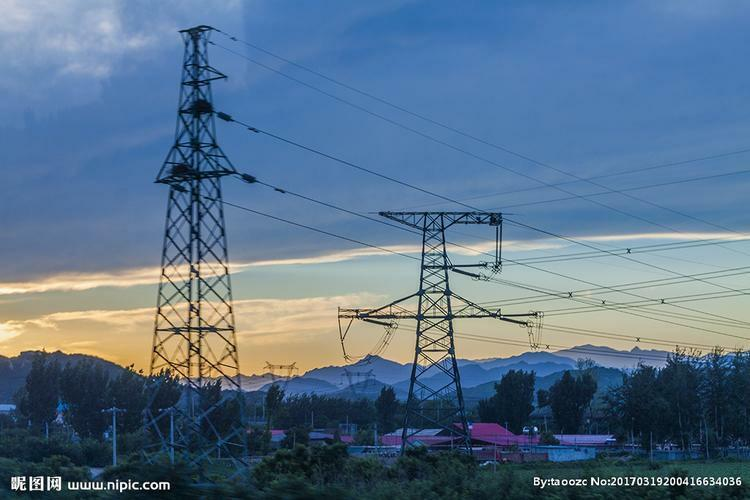power_tower: (146, 16, 259, 473), (351, 204, 532, 455)
